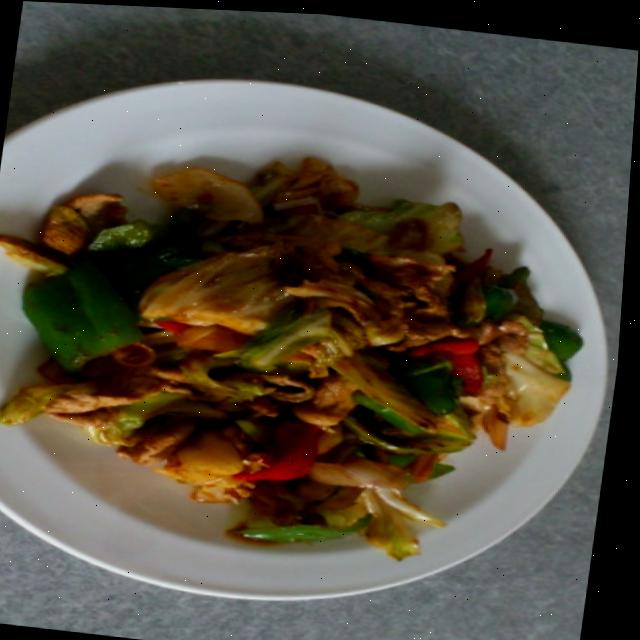猪肉菜式: (0, 79, 626, 622)
